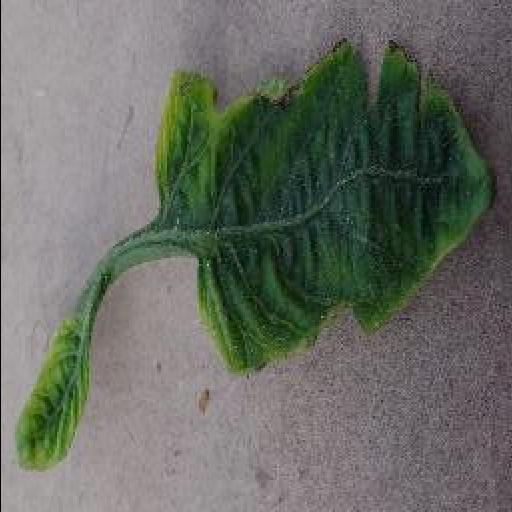disease_tomato: (149, 38, 495, 376), (12, 316, 96, 472)
